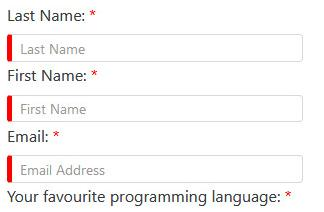field: (5, 32, 304, 63), (6, 94, 304, 123), (6, 154, 304, 183)
field_with_label: (3, 7, 306, 64), (4, 70, 306, 125), (5, 130, 306, 184)
